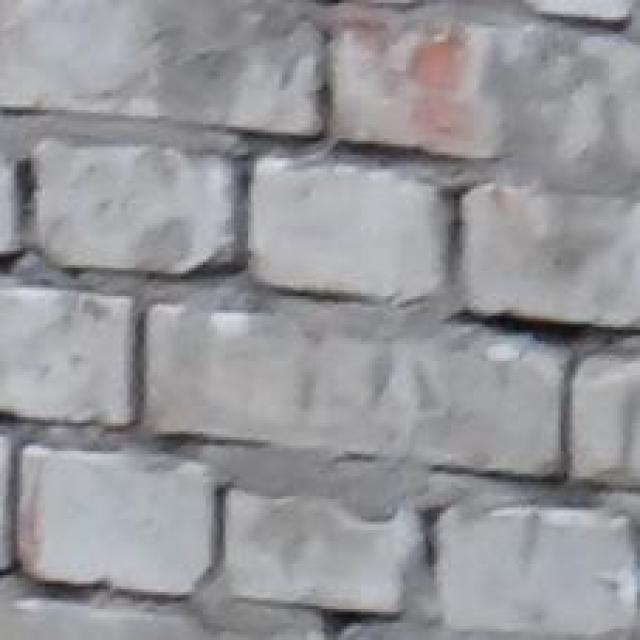Crack: (0, 105, 640, 393)
